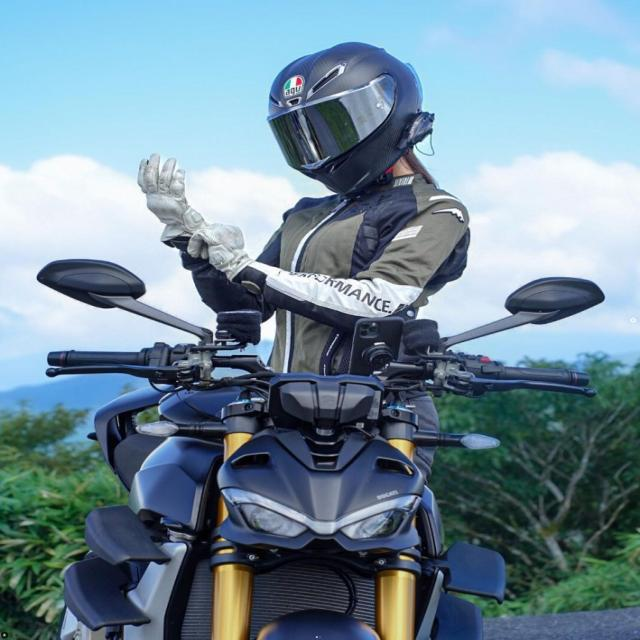helmet: (260, 36, 439, 204)
